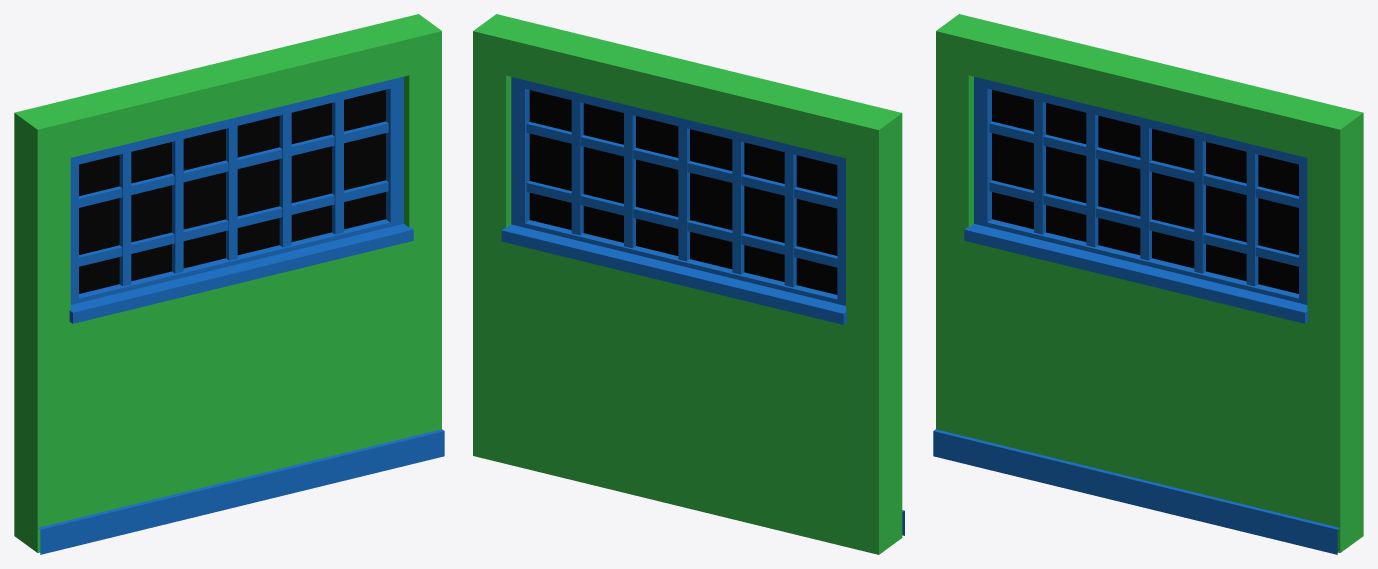
File: SM_wall1.fbx
The picture shows the model from 3 angles, left to right: view 1: azimuth 30°, elevation 25°; view 2: azimuth 150°, elevation 25°; view 3: azimuth 330°, elevation 25°; orthographic projection.
Visible parts, largest first — view 1: wall1; view 2: wall1; view 3: wall1.
Boxes of the visible parts, left/top/right/bottom form: wall1: left=14, top=14, right=444, bottom=554; wall1: left=473, top=14, right=904, bottom=554; wall1: left=933, top=14, right=1363, bottom=554.
Bounding box in the file's own units: 300 × 300 × 38.55.
